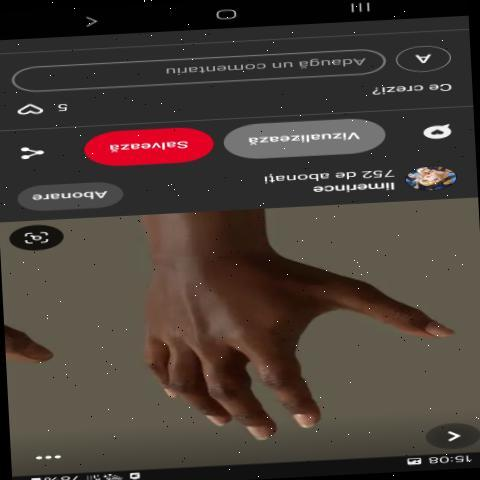Hands: (103, 250, 461, 454)
